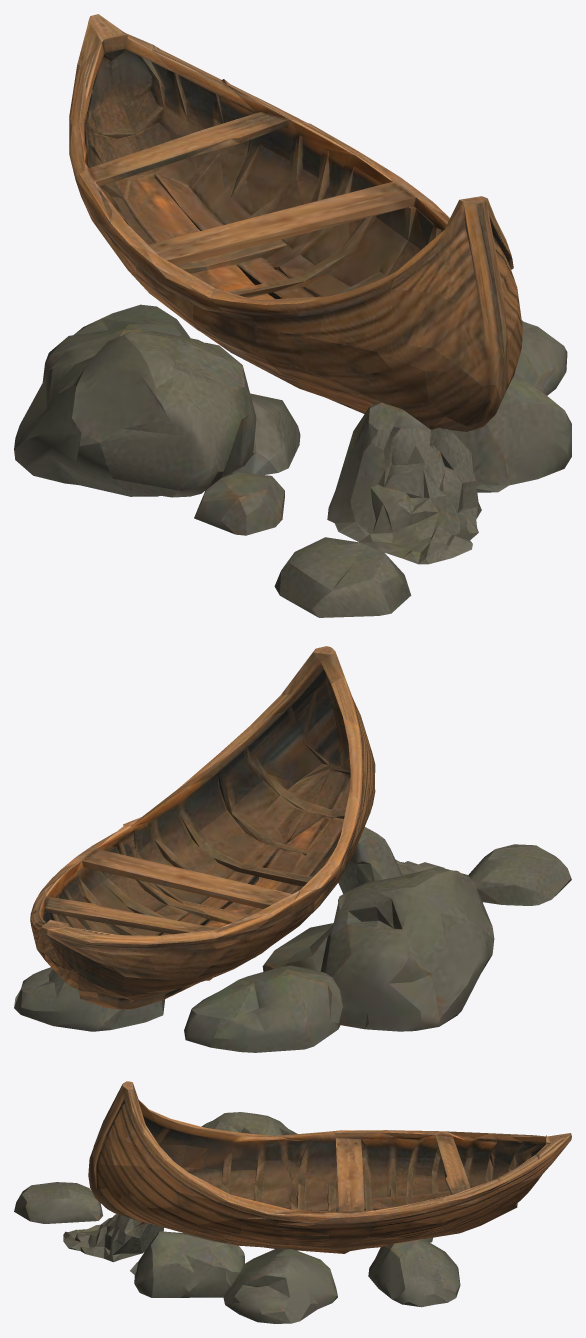
File: sunken_canoe.glb
The picture shows the model from 3 angles, top to bottom: view 1: azimuth 30°, elevation 25°; view 2: azimuth 150°, elevation 25°; view 3: azimuth 270°, elevation 25°; orthographic projection. The views are drawn at different scales.
Bounding box in the file's own units: 1.23 × 0.6768 × 1.9.
Materials: 1 (1 with a texture image).
